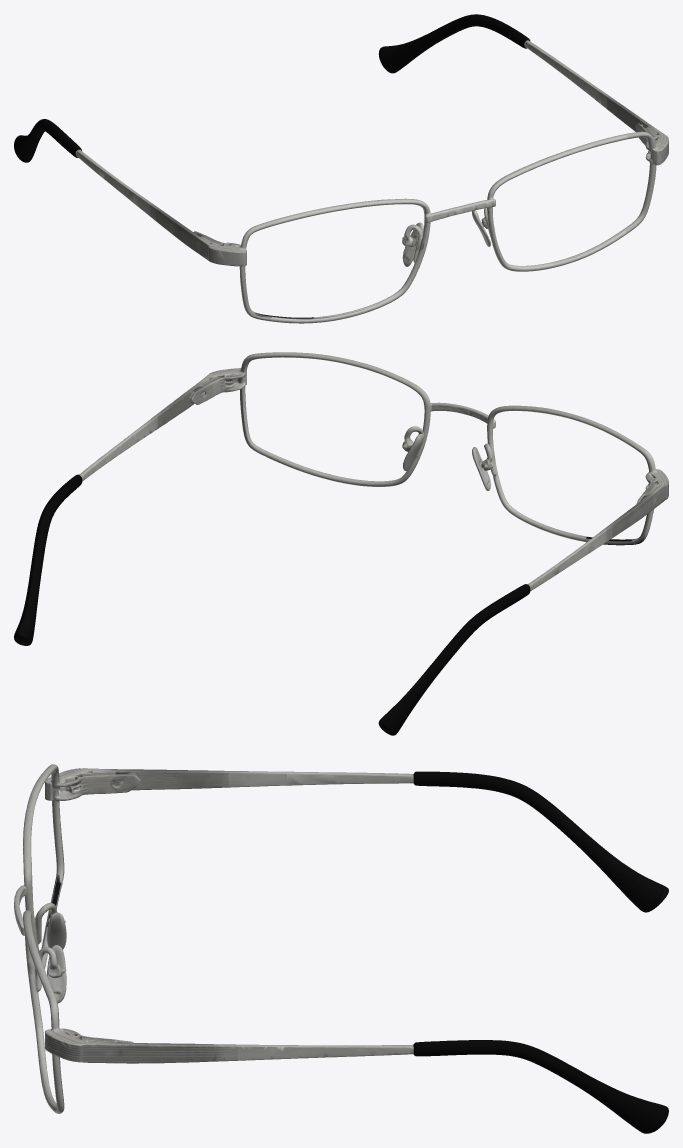
The picture shows the model from 3 angles, top to bottom: view 1: azimuth 30°, elevation 25°; view 2: azimuth 150°, elevation 25°; view 3: azimuth 270°, elevation 25°; orthographic projection. The views are drawn at different scales.
Bounding box in the file's own units: 1.9 × 0.4845 × 1.9.
Materials: 1 (1 with a texture image).
